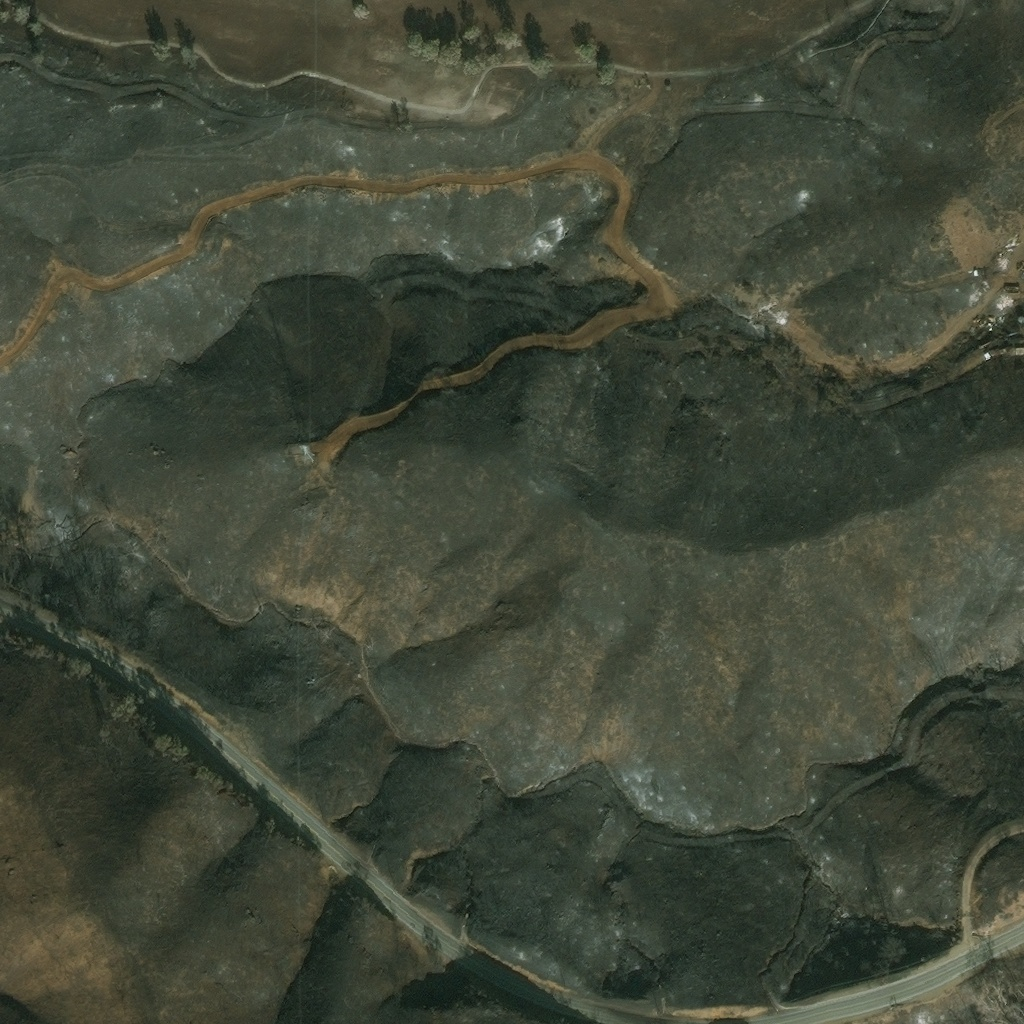2 major-damage: (990, 346, 1007, 356), (1003, 285, 1019, 293), (1014, 346, 1023, 354), (1015, 314, 1023, 322), (983, 350, 990, 359)
